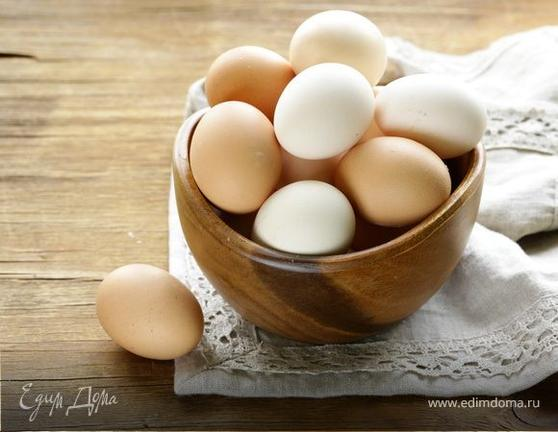egg: (272, 55, 378, 164), (183, 100, 280, 218), (95, 263, 205, 364)
